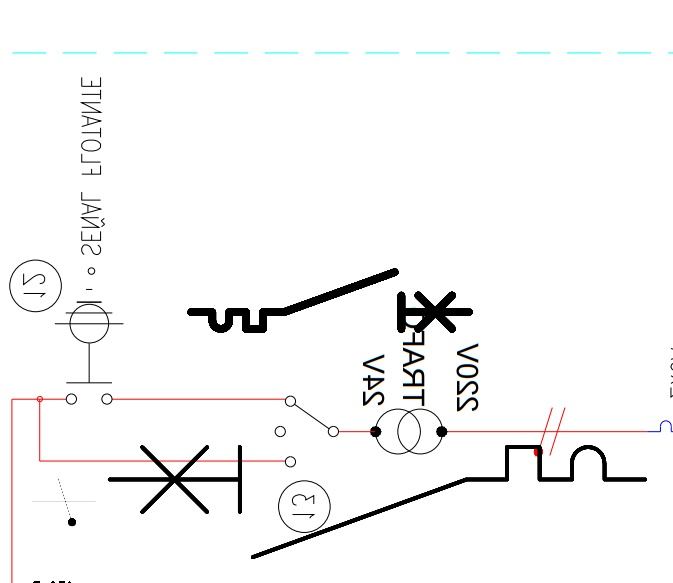interruptor_termomagnetico: (95, 433, 658, 571), (184, 265, 476, 336)
